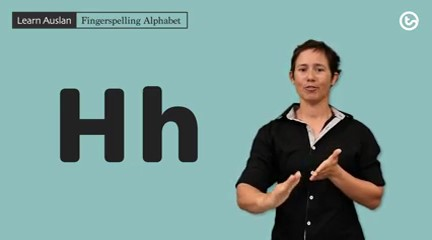H: (268, 146, 342, 208)
